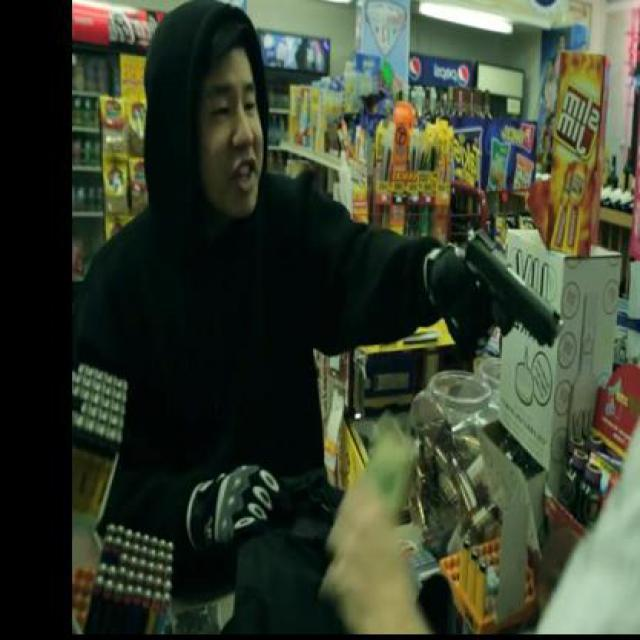Gun: (442, 224, 565, 350)
